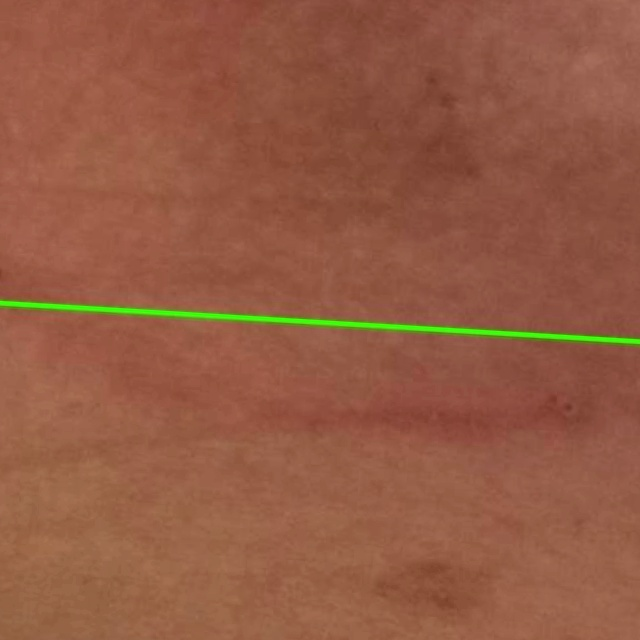Tinea Corporis: (0, 303, 639, 639)
